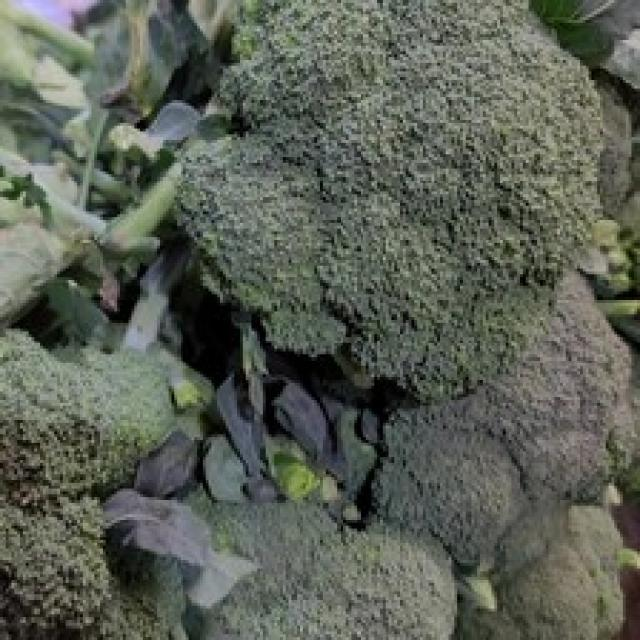Broccoli: (181, 0, 630, 640), (182, 1, 599, 399), (186, 274, 629, 640), (0, 332, 184, 639), (0, 331, 181, 639)
